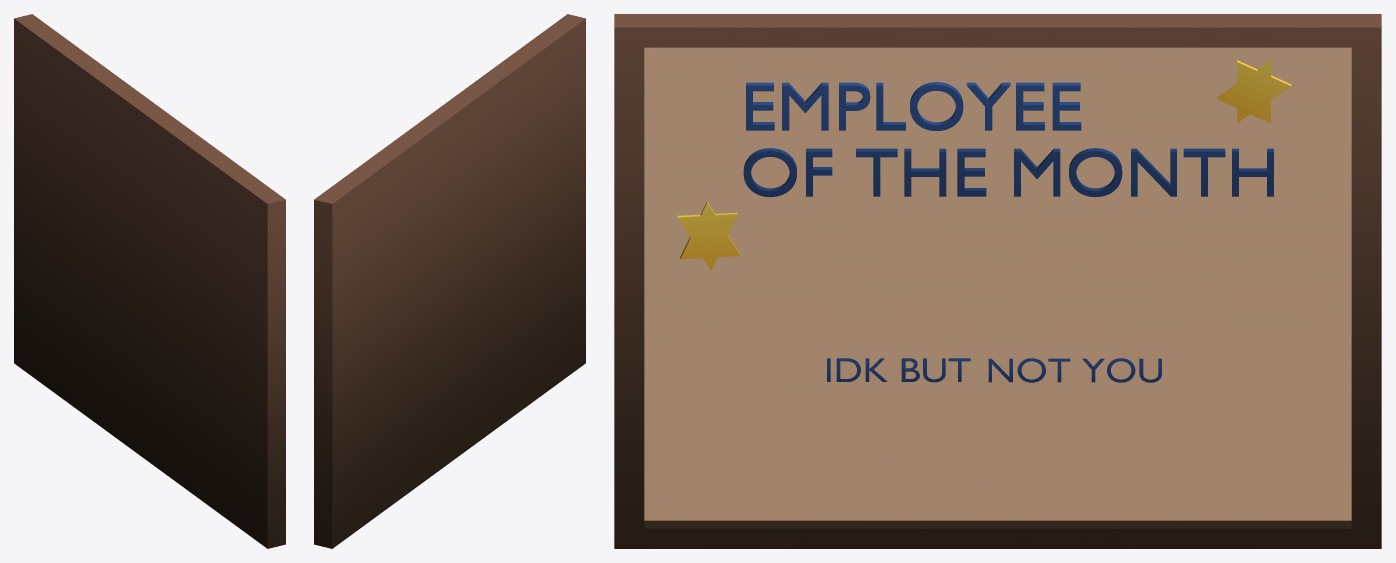
Rendered from Corcho.fbx.
3 renders of one model, left to right at view 1: azimuth 30°, elevation 25°; view 2: azimuth 150°, elevation 25°; view 3: azimuth 270°, elevation 25°, orthographic. The views are drawn at different scales.
Parts seen in each view (by area): view 1: Corcho; view 2: Corcho; view 3: Corcho.
Boxes of the visible parts, x1,y1,x2,y2 form: Corcho: (14, 14, 285, 548); Corcho: (314, 14, 585, 548); Corcho: (614, 14, 1381, 548).
Size of the model in its own units: 120 by 90 by 5.
